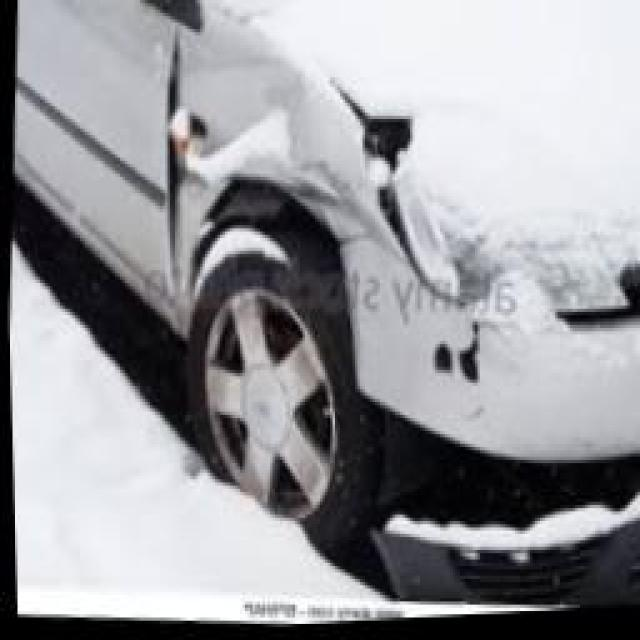Bumper: (320, 382, 640, 621)
Fender: (148, 0, 442, 305)
